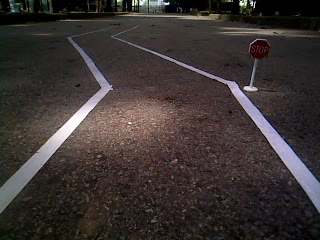Stop: (247, 36, 272, 61)
